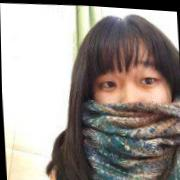WRONG: (88, 52, 175, 147)
